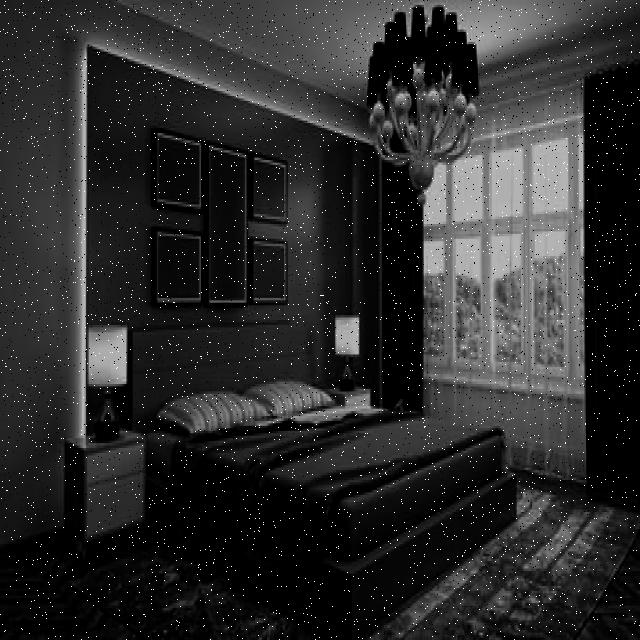bed: (129, 318, 525, 599)
